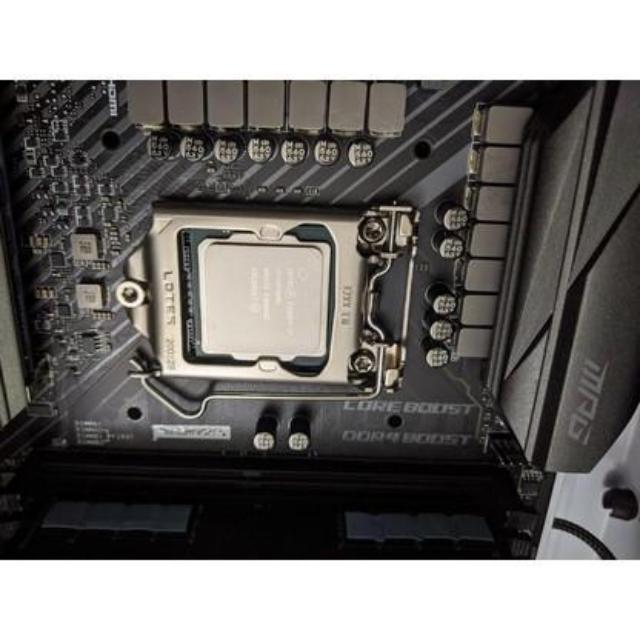CPU: (192, 232, 337, 374)
